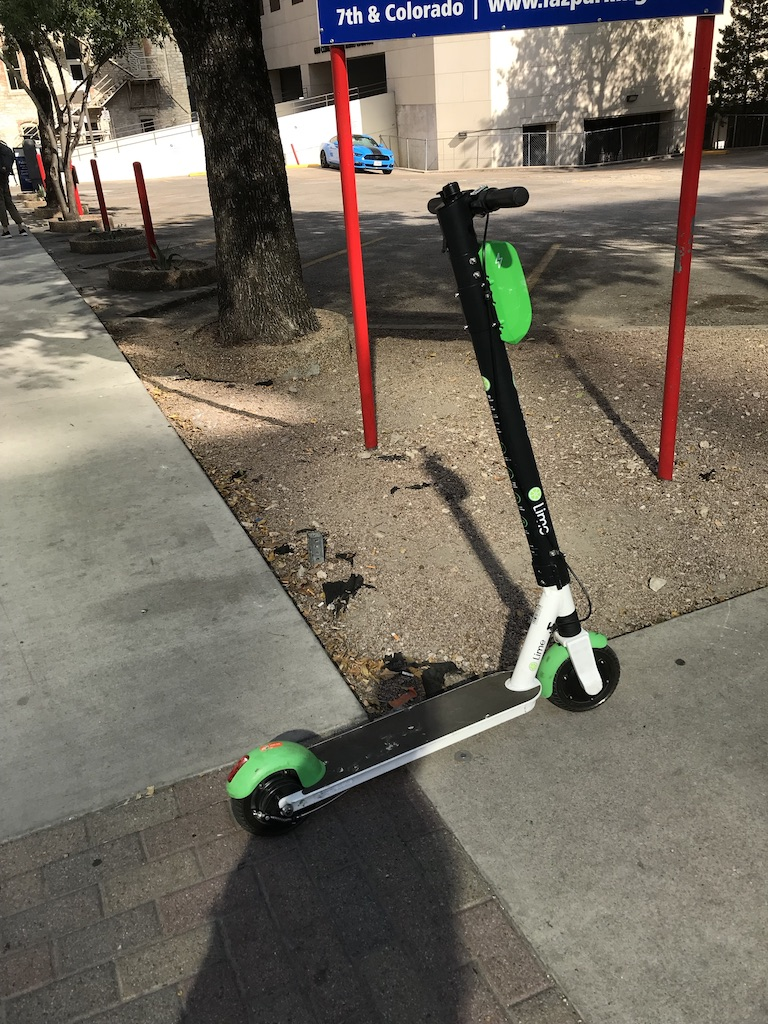scooter: (226, 182, 623, 842)
